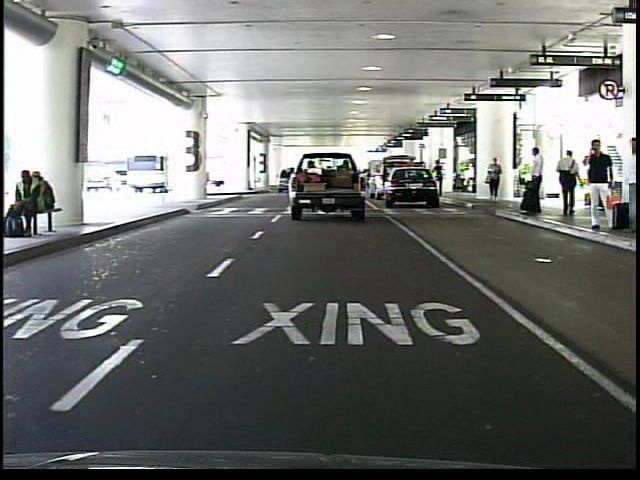person: (580, 137, 619, 236), (620, 135, 640, 237), (520, 145, 547, 219), (556, 145, 583, 218), (485, 156, 506, 206), (433, 159, 446, 201)
